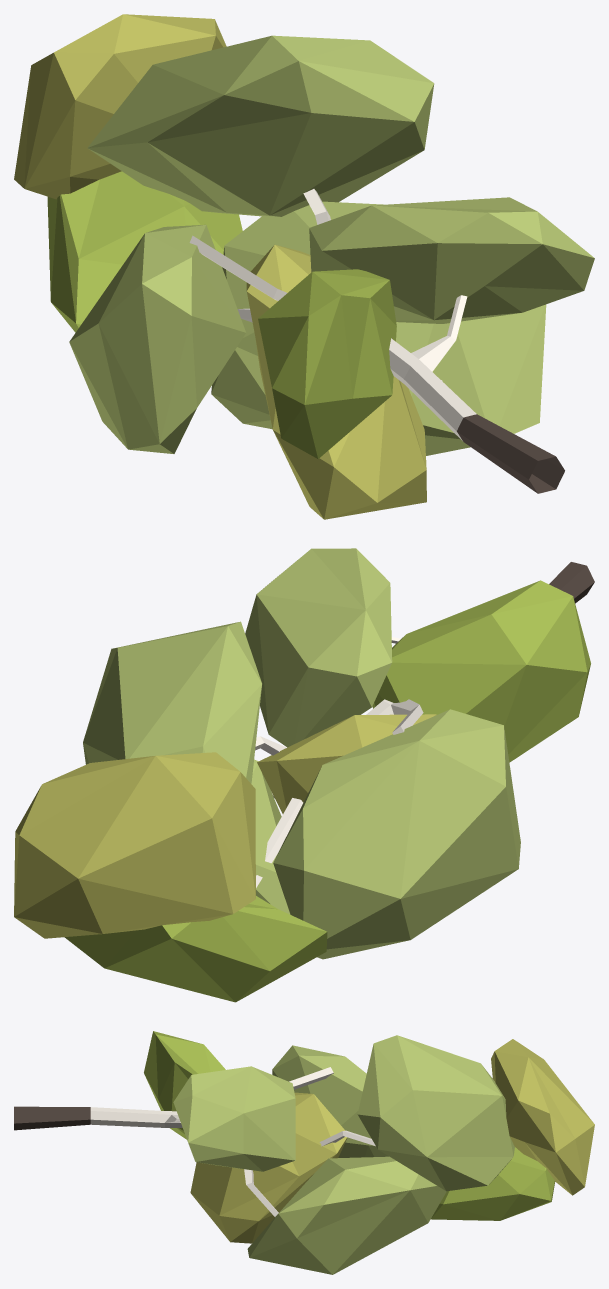
Rendered from Tree Type5 03.glb.
The picture shows the model from 3 angles, top to bottom: view 1: azimuth 30°, elevation 25°; view 2: azimuth 150°, elevation 25°; view 3: azimuth 270°, elevation 25°; orthographic projection. The views are drawn at different scales.
Visible parts, largest first — view 1: Tree Type5 03_mesh; view 2: Tree Type5 03_mesh; view 3: Tree Type5 03_mesh.
Part boxes in pixels (x1,y1,x2,y2): Tree Type5 03_mesh: (14,14,594,519); Tree Type5 03_mesh: (14,548,594,1002); Tree Type5 03_mesh: (14,1031,594,1274).
Bounding box in the file's own units: 2.07 × 1.74 × 4.26.
Materials: 1 (1 with a texture image).
